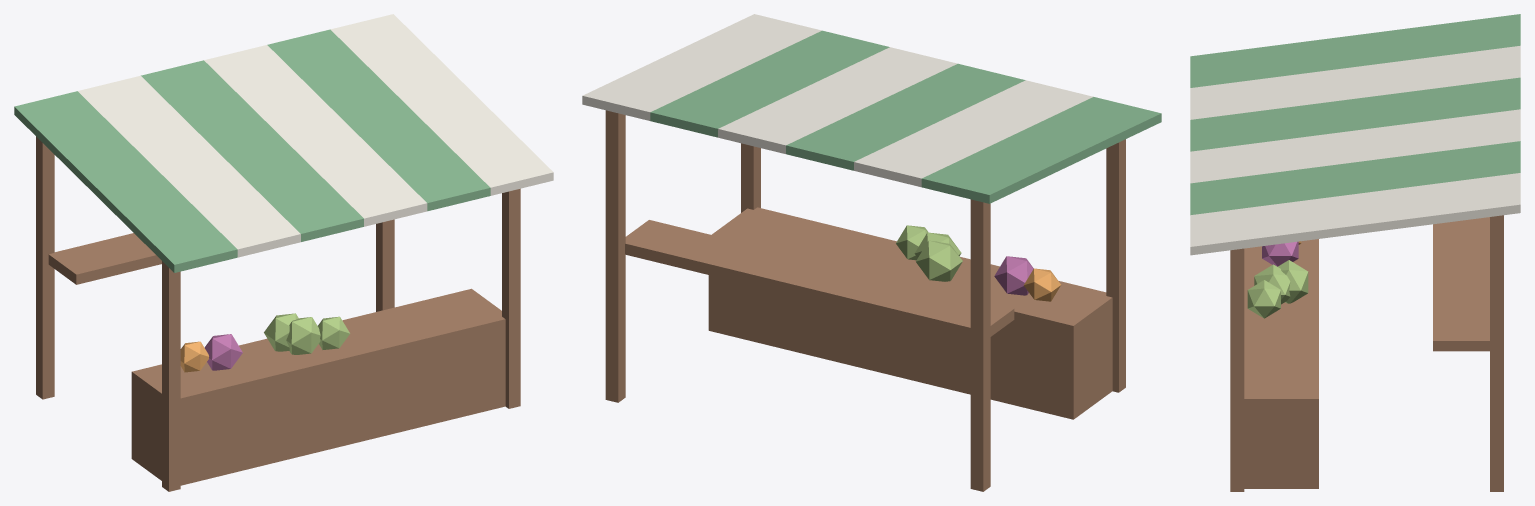
The model's file is market_s2_02.glb.
3 renders of one model, left to right at view 1: azimuth 30°, elevation 25°; view 2: azimuth 150°, elevation 25°; view 3: azimuth 270°, elevation 25°, orthographic. The views are drawn at different scales.
Visible parts, largest first — view 1: part01, part00, part05, part02, part03, part04; view 2: part01, part00, part05, part02, part03, part04; view 3: part05, part00, part01, part02, part03.
Part boxes in pixels (x1=…): part01: x1=36, y1=136, x2=520, y2=491; part00: x1=14, y1=29, x2=490, y2=272; part05: x1=78, y1=14, x2=553, y2=257; part02: x1=264, y1=313, x2=350, y2=354; part03: x1=204, y1=334, x2=242, y2=370; part04: x1=180, y1=341, x2=208, y2=372; part01: x1=605, y1=110, x2=1125, y2=491; part00: x1=650, y1=30, x2=1161, y2=203; part05: x1=582, y1=14, x2=1093, y2=187; part02: x1=896, y1=225, x2=962, y2=281; part03: x1=994, y1=256, x2=1033, y2=295; part04: x1=1023, y1=268, x2=1060, y2=301; part05: x1=1190, y1=45, x2=1520, y2=255; part00: x1=1190, y1=14, x2=1520, y2=215; part01: x1=1230, y1=215, x2=1503, y2=491; part02: x1=1247, y1=260, x2=1308, y2=318; part03: x1=1262, y1=241, x2=1298, y2=266.
Bounding box in the file's own units: 3.86 × 2.78 × 2.83.
